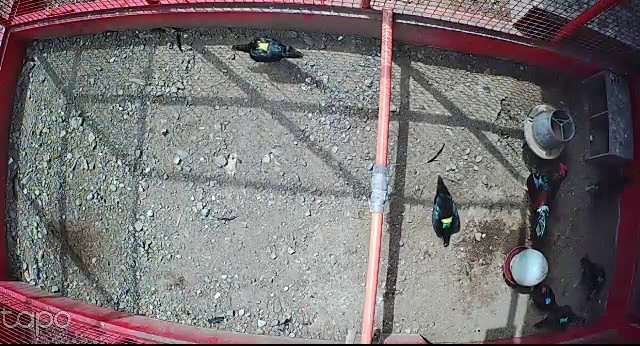Chicken: (228, 32, 304, 66), (431, 176, 463, 248), (576, 256, 611, 307), (531, 303, 583, 334), (526, 282, 566, 315)
Drinker: (504, 246, 551, 291)
Feeder: (522, 101, 575, 161)
Rooster: (519, 159, 569, 245)
Saddle_Color_Blue: (543, 298, 551, 305)
Saddle_Color_Yellow: (256, 40, 271, 52)
Saddle_Color_YellowGreen: (439, 216, 453, 228)
